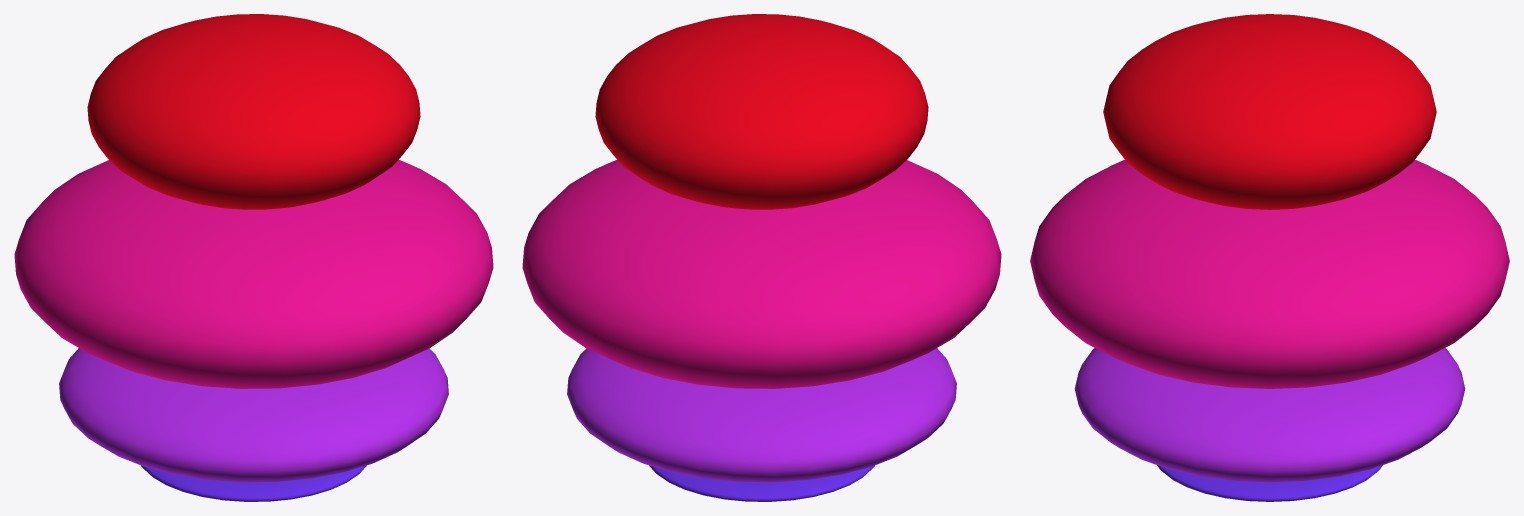
File: sphere_stack_xform.gltf
The picture shows the model from 3 angles, left to right: view 1: azimuth 30°, elevation 25°; view 2: azimuth 150°, elevation 25°; view 3: azimuth 270°, elevation 25°; orthographic projection.
Visible parts, largest first — view 1: Sphere.003, Sphere.004, Sphere.002, Sphere.001; view 2: Sphere.003, Sphere.004, Sphere.002, Sphere.001; view 3: Sphere.003, Sphere.004, Sphere.002, Sphere.001.
Part boxes in pixels (<box>): Sphere.003: <box>14,159,493,388</box>; Sphere.004: <box>87,14,420,209</box>; Sphere.002: <box>59,348,448,482</box>; Sphere.001: <box>141,465,366,501</box>; Sphere.003: <box>522,159,1001,388</box>; Sphere.004: <box>595,14,928,209</box>; Sphere.002: <box>567,348,956,482</box>; Sphere.001: <box>649,465,874,501</box>; Sphere.003: <box>1030,159,1509,388</box>; Sphere.004: <box>1103,14,1436,209</box>; Sphere.002: <box>1074,348,1465,482</box>; Sphere.001: <box>1157,465,1382,501</box>.
Bounding box in the file's own units: 1.96 × 1.89 × 1.96.
